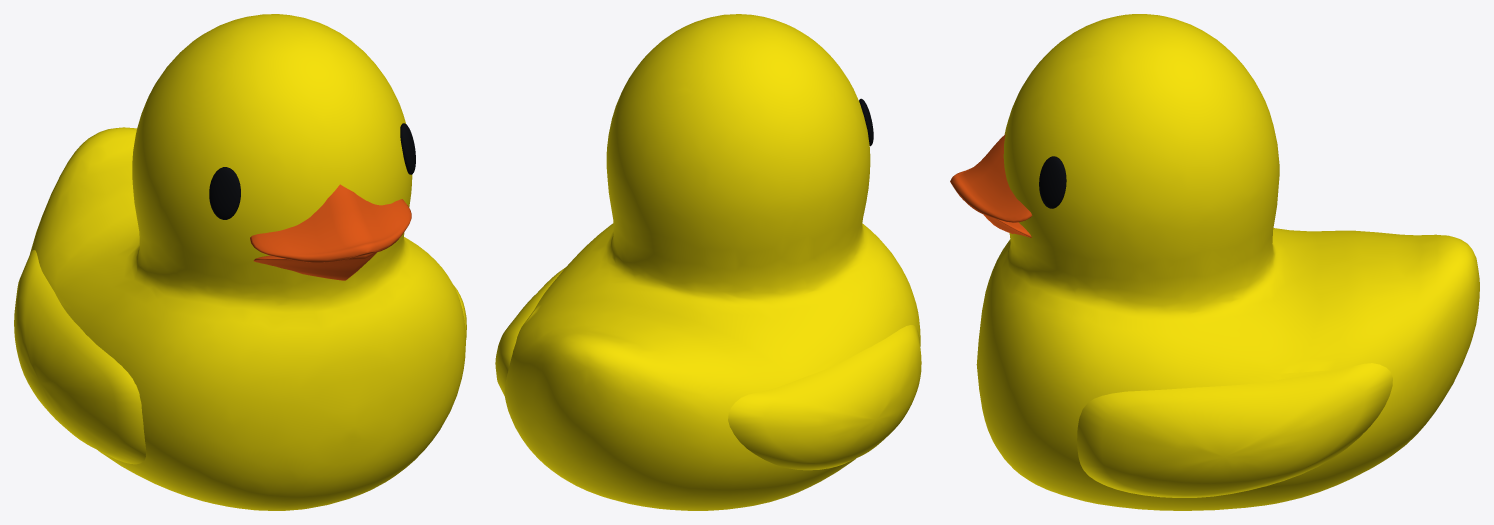
The model's file is RubberDuck.fbx.
The picture shows the model from 3 angles, left to right: view 1: azimuth 30°, elevation 25°; view 2: azimuth 150°, elevation 25°; view 3: azimuth 270°, elevation 25°; orthographic projection. The views are drawn at different scales.
Parts seen in each view (by area): view 1: RubberDuck; view 2: RubberDuck; view 3: RubberDuck.
Boxes of the visible parts, bbox=[...] form: RubberDuck: bbox=[14, 14, 466, 510]; RubberDuck: bbox=[495, 14, 921, 510]; RubberDuck: bbox=[950, 14, 1479, 510].
Bounding box in the file's own units: 0.1748 × 0.2 × 0.2117.
